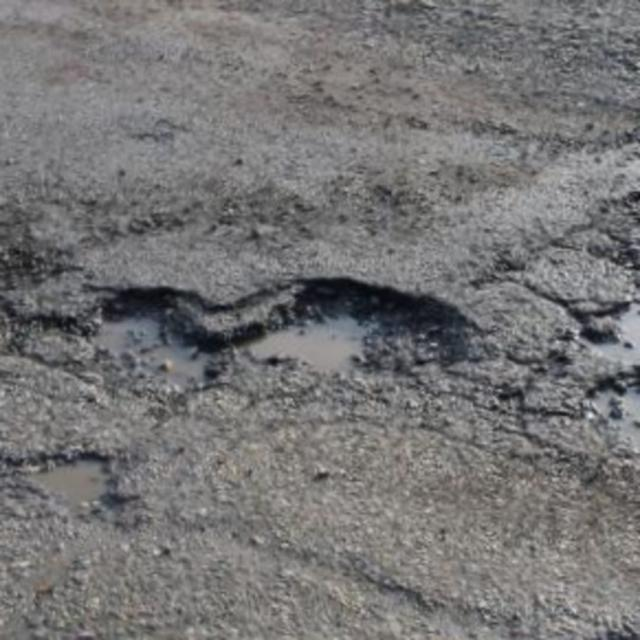pothole: (235, 264, 484, 421), (32, 274, 230, 428), (559, 251, 640, 462), (6, 443, 150, 537)
